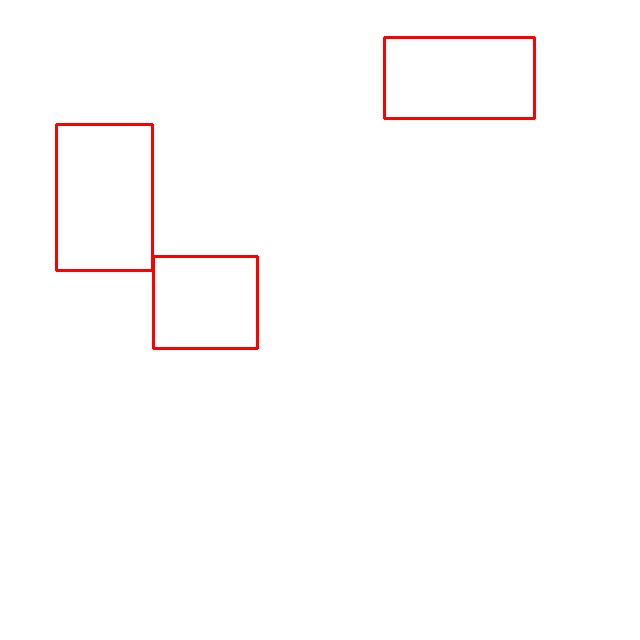weapon: (57, 124, 152, 271), (385, 37, 535, 119), (153, 257, 258, 349)
